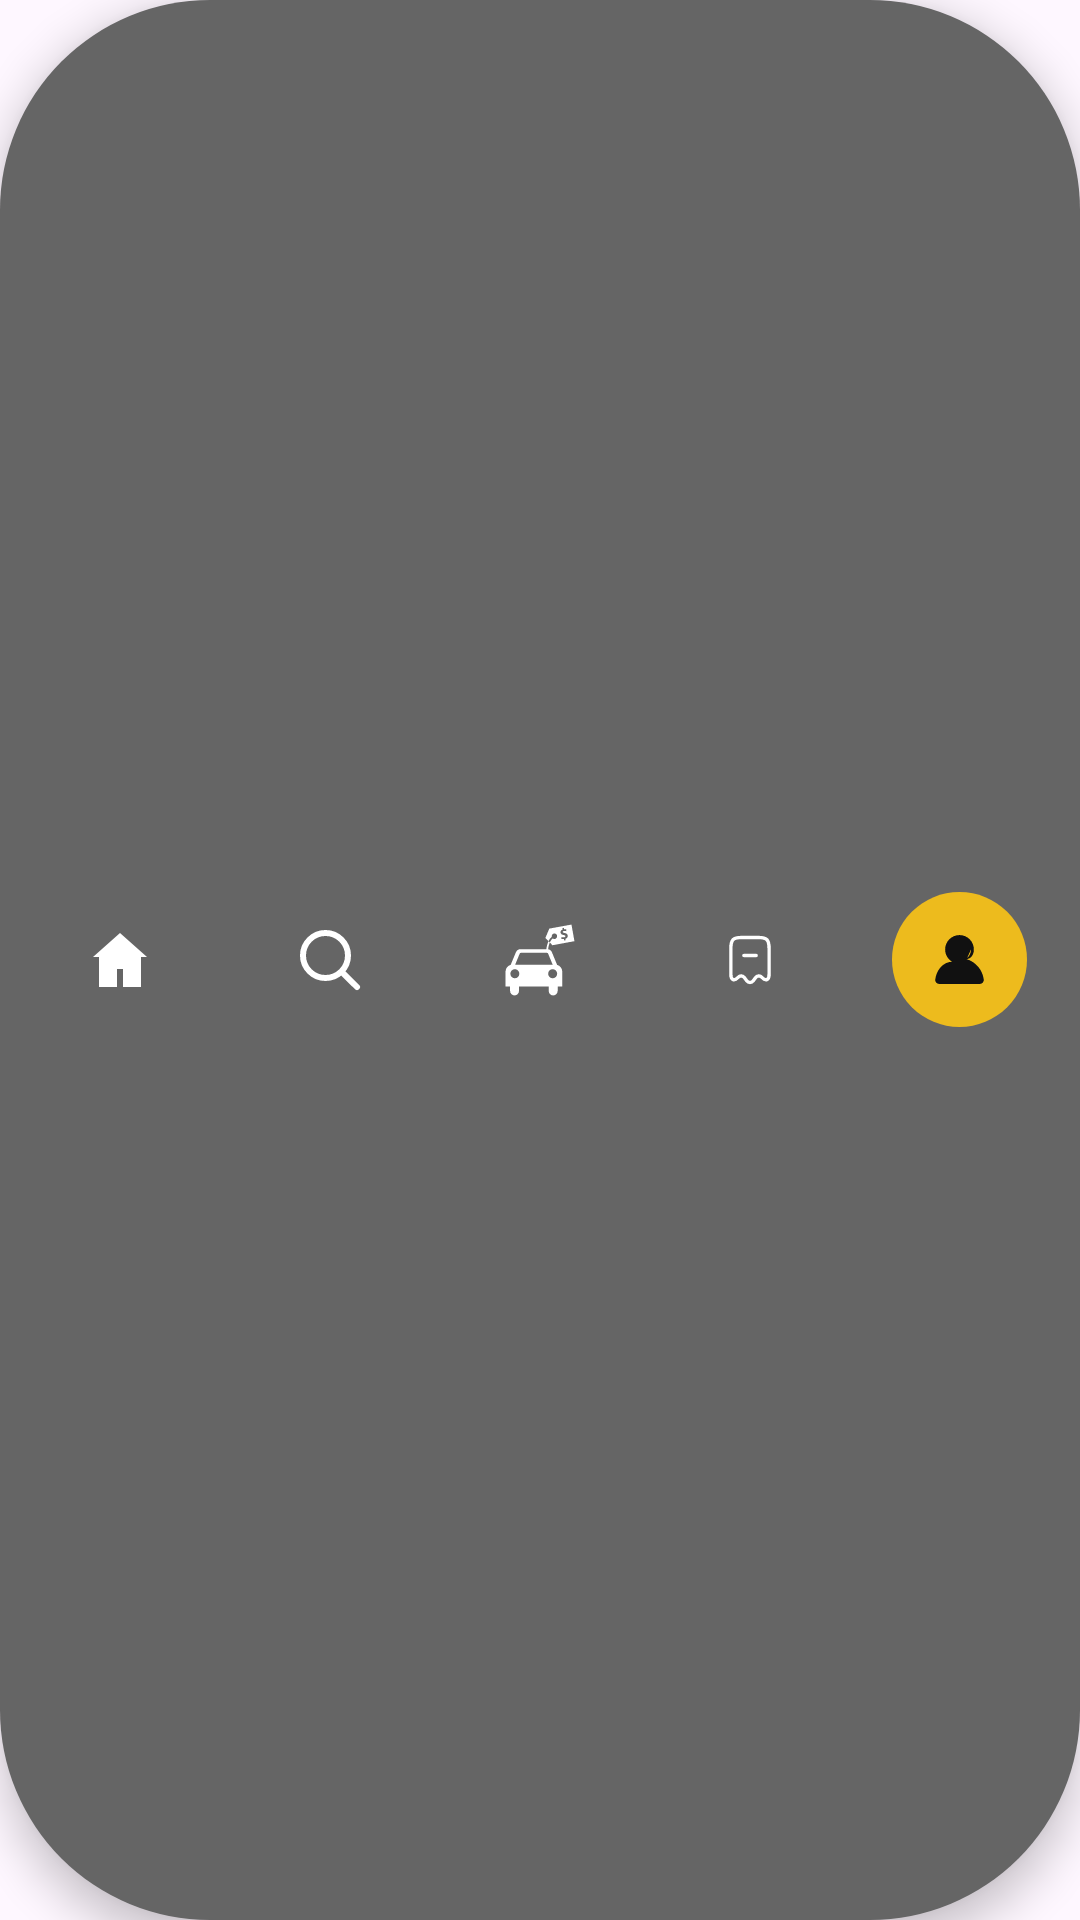

Icons on this 1080×1920 Android screen, each with its box as (x1, y1, x2, y2):
home: (93, 933, 147, 987)
profile: (892, 892, 1027, 1027)
search: (300, 930, 360, 990)
sell: (505, 924, 575, 996)
